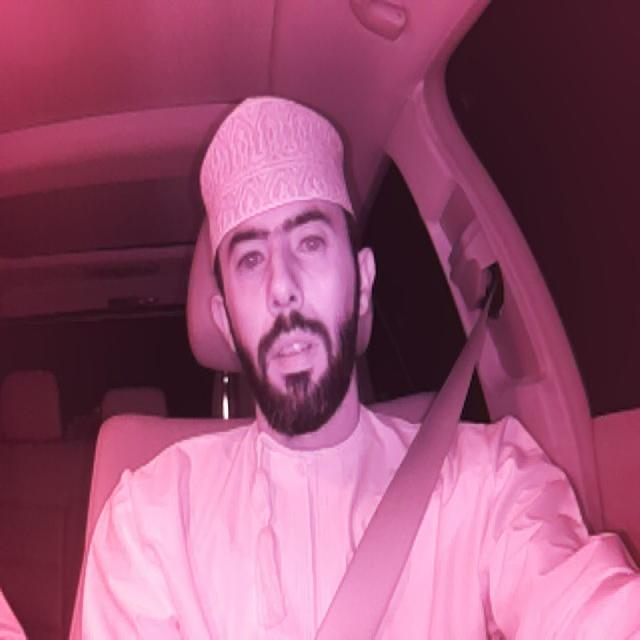seatbelt: (316, 280, 498, 638)
